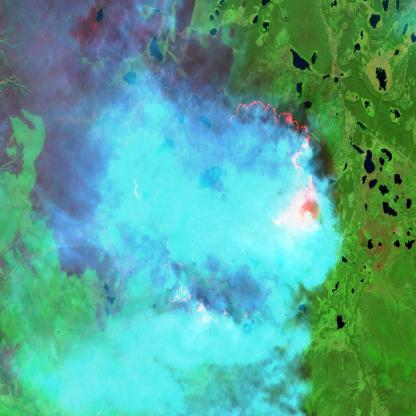fire: (128, 88, 334, 378)
